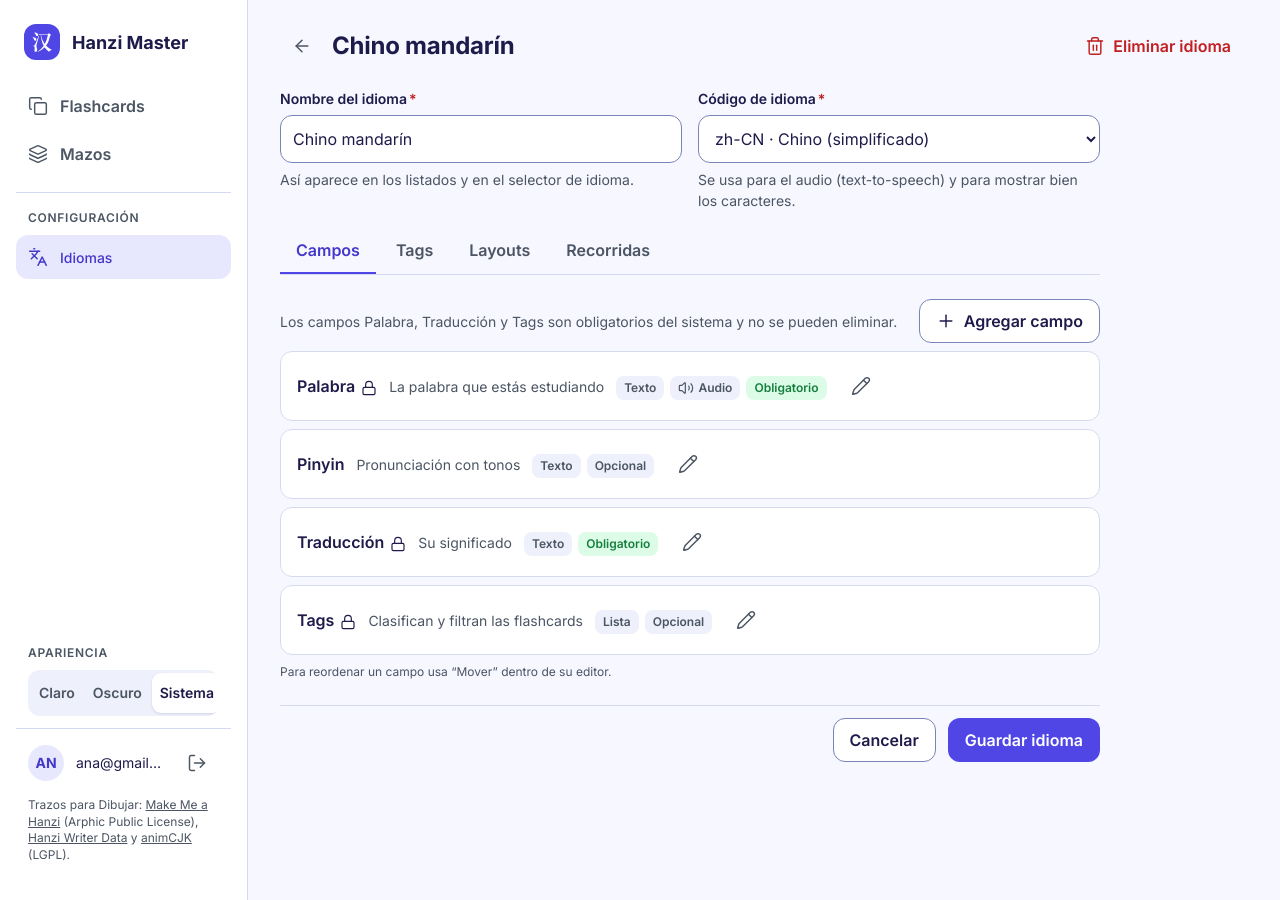
Test: I02/I03 · Campos › I02-2 / I03-2 los campos de sistema no se pueden eliminar ni cambiar de tipo; Palabra es obligatoria
This screenshot has width=1280, height=900.
Expected: the field labelled "Nombre del idioma*" is shown, [280,115,682,163]
Click the button named "Editar campo Palabra" at (860, 386), box [838,364,882,408]
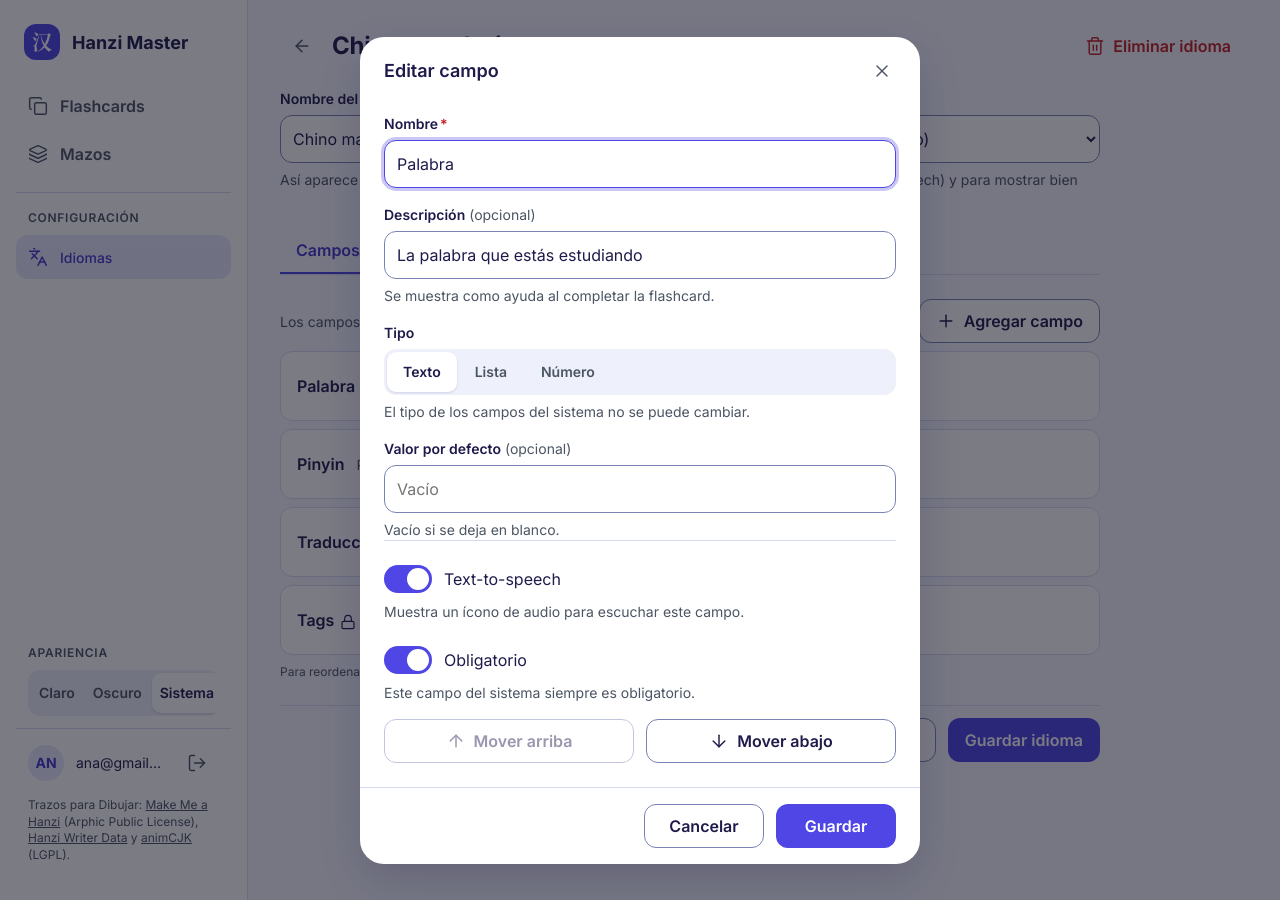
Expected: the button "Número" is disabled, [525,352,611,392]
Expected: the switch labelled "Obligatorio" is disabled, [384,646,527,674]
Expected: the switch labelled "Obligatorio" is checked, [384,646,527,674]
